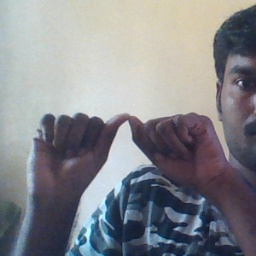A: (28, 108, 219, 193)
